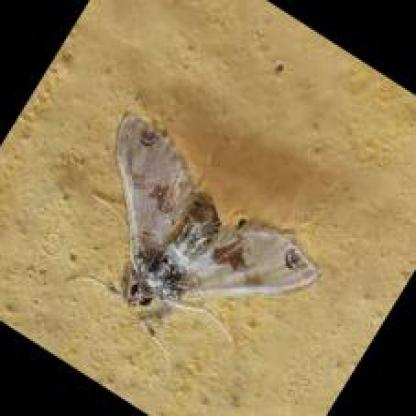leucinodes: (118, 109, 319, 307)
